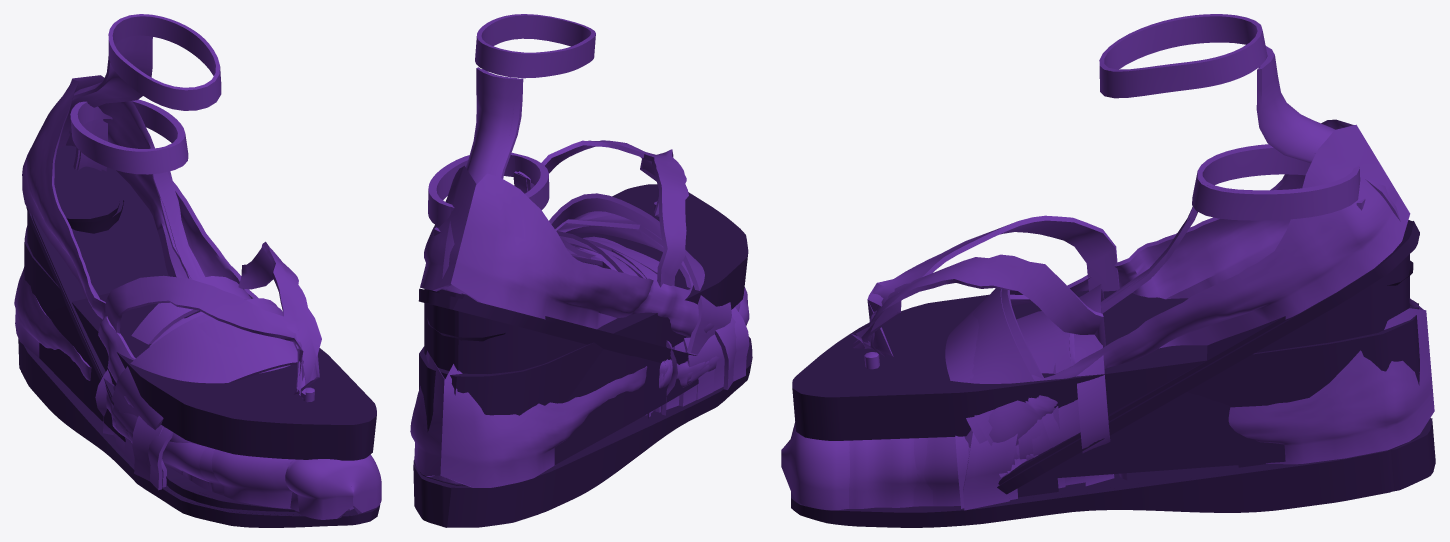
Rendered from anne2_shoe_props.glb.
3 views of the same model, side by side, from view 1: azimuth 30°, elevation 25°; view 2: azimuth 150°, elevation 25°; view 3: azimuth 270°, elevation 25° (orthographic). The views are drawn at different scales.
Visible parts, largest first — view 1: Anne_ShoeProp_geta, Anne_ShoeProp_wedges, Anne_ShoeProp_pumps, Anne_ShoeProp_mules, Anne_ShoeProp_slide, Anne_ShoeProp_tstrap, Anne_ShoeProp_flats, Anne_ShoeProp_gladiator, Anne_ShoeProp_heels, Anne_ShoeProp_cross, Anne_ShoeProp_toeloop; view 2: Anne_ShoeProp_pumps, Anne_ShoeProp_wedges, Anne_ShoeProp_geta, Anne_ShoeProp_flats, Anne_ShoeProp_slide, Anne_ShoeProp_heels, Anne_ShoeProp_mules, Anne_ShoeProp_gladiator, Anne_ShoeProp_cross, Anne_ShoeProp_tstrap, Anne_ShoeProp_toeloop; view 3: Anne_ShoeProp_geta, Anne_ShoeProp_pumps, Anne_ShoeProp_gladiator, Anne_ShoeProp_flats, Anne_ShoeProp_wedges, Anne_ShoeProp_heels, Anne_ShoeProp_mules, Anne_ShoeProp_cross, Anne_ShoeProp_slide, Anne_ShoeProp_tstrap, Anne_ShoeProp_toeloop.
Boxes of the visible parts, x1=… form: Anne_ShoeProp_geta: x1=24, y1=226, x2=376, y2=460; Anne_ShoeProp_wedges: x1=27, y1=15, x2=297, y2=511; Anne_ShoeProp_pumps: x1=22, y1=75, x2=353, y2=511; Anne_ShoeProp_mules: x1=18, y1=318, x2=361, y2=519; Anne_ShoeProp_slide: x1=20, y1=311, x2=361, y2=527; Anne_ShoeProp_tstrap: x1=70, y1=100, x2=205, y2=280; Anne_ShoeProp_flats: x1=14, y1=267, x2=381, y2=517; Anne_ShoeProp_gladiator: x1=73, y1=99, x2=380, y2=522; Anne_ShoeProp_heels: x1=62, y1=14, x2=293, y2=509; Anne_ShoeProp_cross: x1=113, y1=385, x2=362, y2=523; Anne_ShoeProp_toeloop: x1=124, y1=437, x2=366, y2=522; Anne_ShoeProp_pumps: x1=418, y1=165, x2=740, y2=364; Anne_ShoeProp_wedges: x1=424, y1=14, x2=731, y2=465; Anne_ShoeProp_geta: x1=419, y1=140, x2=748, y2=431; Anne_ShoeProp_flats: x1=410, y1=294, x2=747, y2=527; Anne_ShoeProp_slide: x1=430, y1=243, x2=752, y2=520; Anne_ShoeProp_heels: x1=424, y1=14, x2=698, y2=353; Anne_ShoeProp_mules: x1=414, y1=247, x2=749, y2=527; Anne_ShoeProp_gladiator: x1=413, y1=152, x2=677, y2=484; Anne_ShoeProp_cross: x1=430, y1=236, x2=749, y2=485; Anne_ShoeProp_tstrap: x1=433, y1=153, x2=583, y2=483; Anne_ShoeProp_toeloop: x1=429, y1=354, x2=747, y2=484; Anne_ShoeProp_geta: x1=792, y1=215, x2=1419, y2=497; Anne_ShoeProp_pumps: x1=964, y1=119, x2=1419, y2=494; Anne_ShoeProp_gladiator: x1=791, y1=146, x2=1418, y2=527; Anne_ShoeProp_flats: x1=781, y1=298, x2=1435, y2=510; Anne_ShoeProp_wedges: x1=945, y1=14, x2=1409, y2=479; Anne_ShoeProp_heels: x1=969, y1=14, x2=1403, y2=484; Anne_ShoeProp_mules: x1=782, y1=333, x2=1432, y2=508; Anne_ShoeProp_cross: x1=949, y1=311, x2=1291, y2=510; Anne_ShoeProp_slide: x1=950, y1=329, x2=1282, y2=508; Anne_ShoeProp_tstrap: x1=1101, y1=144, x2=1363, y2=313; Anne_ShoeProp_toeloop: x1=947, y1=419, x2=1337, y2=510.
Bounding box in the file's own units: 0.0893 × 0.1768 × 0.2296.
